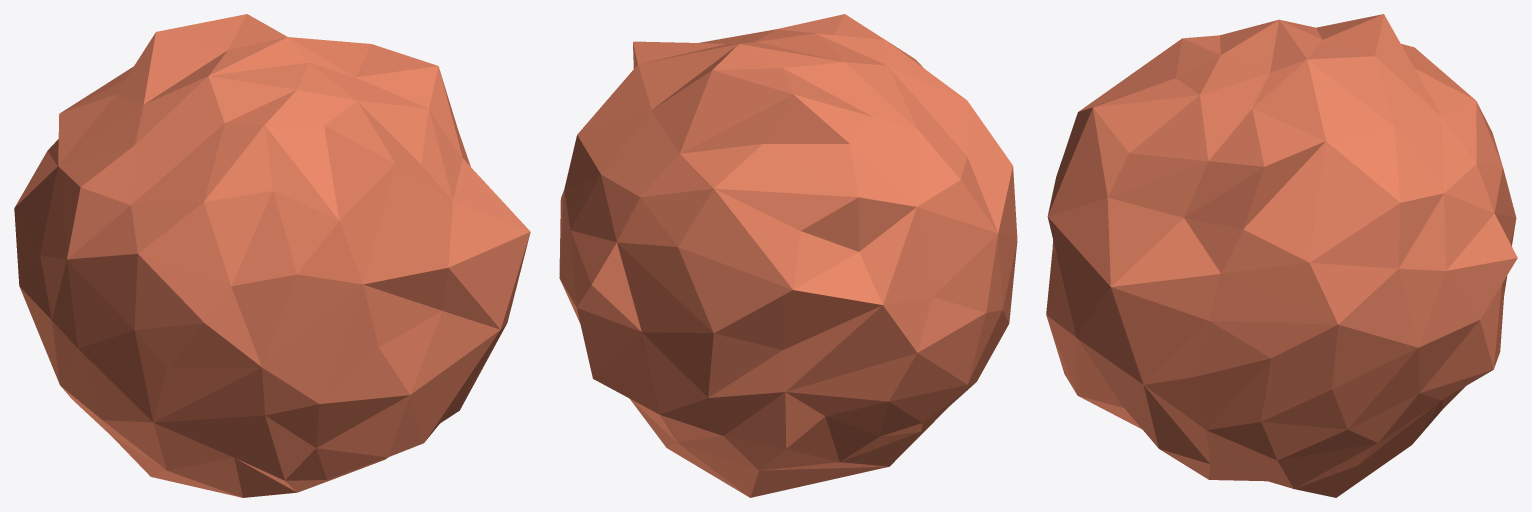
File: dry_planet3.fbx
3 renders of one model, left to right at view 1: azimuth 30°, elevation 25°; view 2: azimuth 150°, elevation 25°; view 3: azimuth 270°, elevation 25°, orthographic.
Parts seen in each view (by area): view 1: dry_planet3; view 2: dry_planet3; view 3: dry_planet3.
Boxes of the visible parts, left/top/right/bottom form: dry_planet3: left=14, top=14, right=530, bottom=497; dry_planet3: left=559, top=14, right=1017, bottom=497; dry_planet3: left=1046, top=14, right=1517, bottom=497.
Size of the model in its own units: 199 by 200 by 200.
